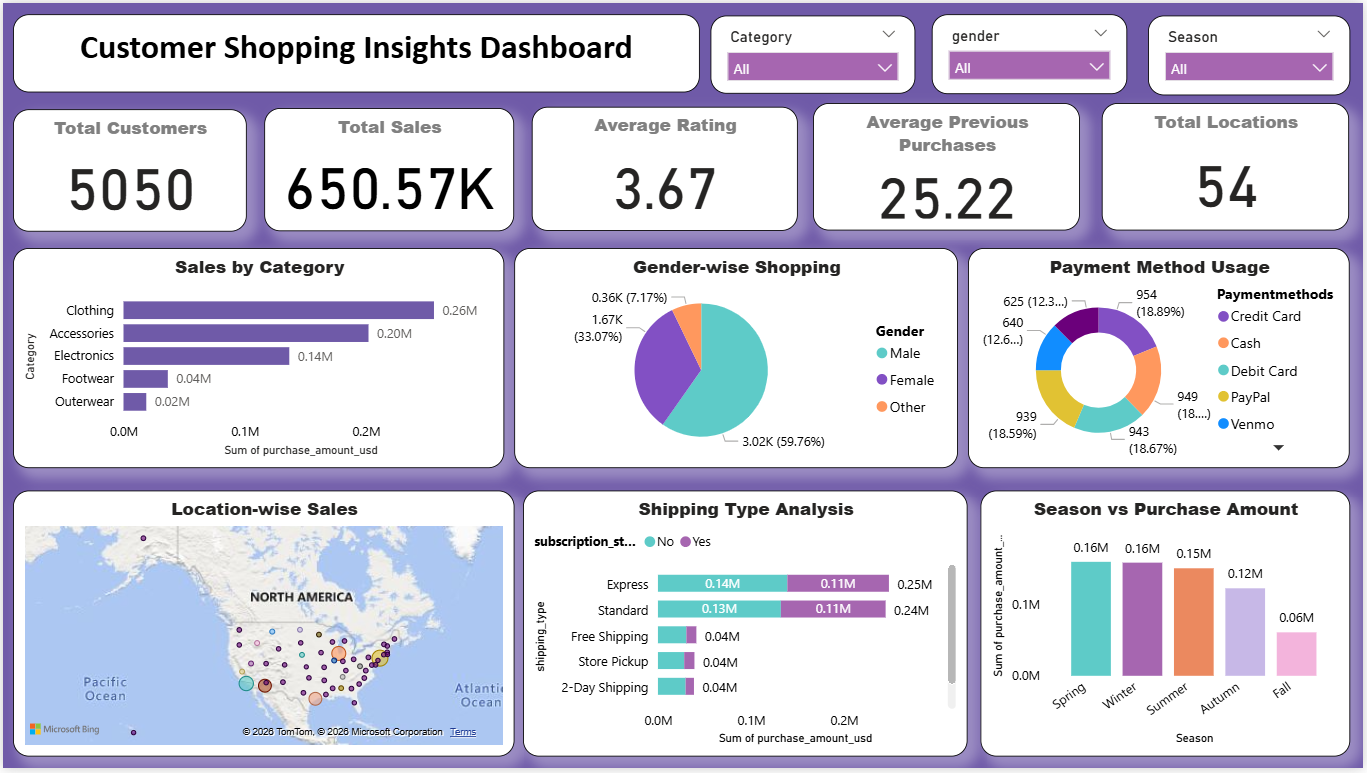

Layout of this report page (visuals, bound fields, positions):
{"tool":"powerbi","page":{"name":"Customer_Shopping","canvas":[1280,720],"ordinal":0},"visuals":[{"type":"card","title":"Total Customers","fields":{"Values":["CountNonNull(data_analysis_project customer_behaviour_analysis.customer_id)"]},"box":[9.3,100,219.8,115.1],"z":0},{"type":"card","title":"Total Sales","fields":{"Values":["Sum(data_analysis_project customer_behaviour_analysis.purchase_amount_usd)"]},"box":[246,99.1,234.9,115.8],"z":1000},{"type":"card","title":"Average Rating","fields":{"Values":["Avg(data_analysis_project customer_behaviour_analysis.review_rating)"]},"box":[497.6,98,250.5,116.9],"z":2000},{"type":"card","title":"Average Previous Purchases","fields":{"Values":["Avg(data_analysis_project customer_behaviour_analysis.previous_purchases)"]},"box":[762.5,94.6,251.6,120.2],"z":3000},{"type":"card","title":"Total Locations","fields":{"Values":["Count(data_analysis_project customer_behaviour_analysis.Location)"]},"box":[1034.1,94.6,232.7,120.2],"z":4000},{"type":"clusteredBarChart","title":"Sales by Category","fields":{"Y":["Sum(data_analysis_project customer_behaviour_analysis.purchase_amount_usd)"],"Category":["data_analysis_project customer_behaviour_analysis.Category"]},"box":[9.3,230.2,462.8,207],"z":5000},{"type":"pieChart","title":"Gender-wise Shopping","fields":{"Category":["data_analysis_project customer_behaviour_analysis.gender"],"Y":["CountNonNull(data_analysis_project customer_behaviour_analysis.customer_id)"]},"box":[481.4,230.2,417.4,207],"z":6000},{"type":"columnChart","title":"Season vs Purchase Amount","fields":{"Category":["data_analysis_project customer_behaviour_analysis.Season"],"Y":["Sum(data_analysis_project customer_behaviour_analysis.purchase_amount_usd)"]},"box":[919.8,459.3,347.7,250],"z":7000},{"type":"donutChart","title":"Payment Method Usage","fields":{"Category":["data_analysis_project customer_behaviour_analysis.payment_method"],"Y":["CountNonNull(data_analysis_project customer_behaviour_analysis.customer_id)"]},"box":[908.1,230.2,359.3,207],"z":8000},{"type":"map","title":"Location-wise Sales","fields":{"Category":["data_analysis_project customer_behaviour_analysis.Location"],"Size":["Sum(data_analysis_project customer_behaviour_analysis.purchase_amount_usd)"]},"box":[9.3,459.3,472.1,250],"z":9000},{"type":"barChart","title":"Shipping Type Analysis ","fields":{"Series":["data_analysis_project customer_behaviour_analysis.subscription_status"],"Category":["data_analysis_project customer_behaviour_analysis.shipping_type"],"Y":["Sum(data_analysis_project customer_behaviour_analysis.purchase_amount_usd)"]},"box":[489.5,459.3,418.6,250],"z":10000},{"type":"slicer","fields":{"Values":["data_analysis_project customer_behaviour_analysis.Category"]},"box":[666.2,11.2,192.5,73.8],"z":11000},{"type":"slicer","fields":{"Values":["data_analysis_project customer_behaviour_analysis.gender"]},"box":[873.8,10,183.8,75],"z":12000},{"type":"slicer","fields":{"Values":["data_analysis_project customer_behaviour_analysis.Season"]},"box":[1077.5,11.2,190,75],"z":13000},{"type":"textbox","box":[8.9,11.1,646.7,73.3],"z":14000}]}

Visuals, with their boxes in screenshot pixels (x1, y1, x2, y2), scaled from the page's 1280x720 canvas onto the 1367x773 screenshot:
"Total Customers" card: locate(10, 107, 245, 231)
"Total Sales" card: locate(263, 106, 514, 231)
"Average Rating" card: locate(531, 105, 799, 231)
"Average Previous Purchases" card: locate(814, 102, 1083, 231)
"Total Locations" card: locate(1104, 102, 1353, 231)
"Sales by Category" clusteredBarChart: locate(10, 247, 504, 469)
"Gender-wise Shopping" pieChart: locate(514, 247, 960, 469)
"Season vs Purchase Amount" columnChart: locate(982, 493, 1354, 762)
"Payment Method Usage" donutChart: locate(970, 247, 1354, 469)
"Location-wise Sales" map: locate(10, 493, 514, 762)
"Shipping Type Analysis " barChart: locate(523, 493, 970, 762)
slicer - data_analysis_project customer_behaviour_analysis.Category: locate(711, 12, 917, 91)
slicer - data_analysis_project customer_behaviour_analysis.gender: locate(933, 11, 1129, 91)
slicer - data_analysis_project customer_behaviour_analysis.Season: locate(1151, 12, 1354, 93)
textbox: locate(10, 12, 700, 91)
